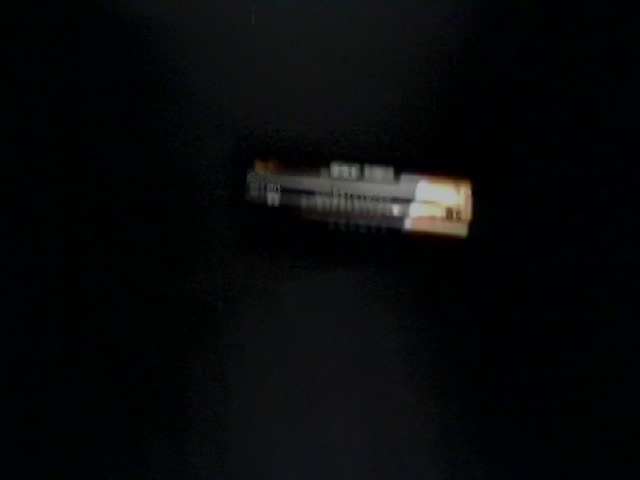YHLJ: (23, 145, 274, 317)
